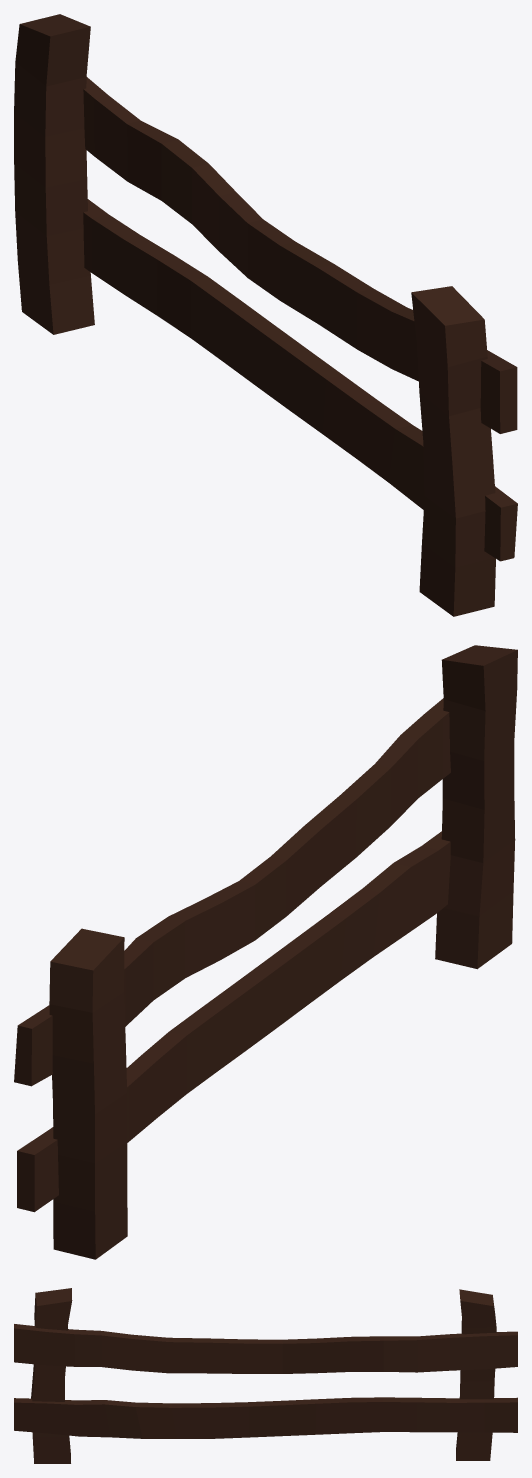
The model's file is Fence01.fbx.
The picture shows the model from 3 angles, top to bottom: view 1: azimuth 30°, elevation 25°; view 2: azimuth 150°, elevation 25°; view 3: azimuth 270°, elevation 25°; orthographic projection. The views are drawn at different scales.
Visible parts, largest first — view 1: Fence01; view 2: Fence01; view 3: Fence01.
Boxes of the visible parts, <box> form: Fence01: <box>14,14,517,616</box>; Fence01: <box>14,645,517,1259</box>; Fence01: <box>14,1288,517,1463</box>.
Bounding box in the file's own units: 248 × 1044 × 2923.
